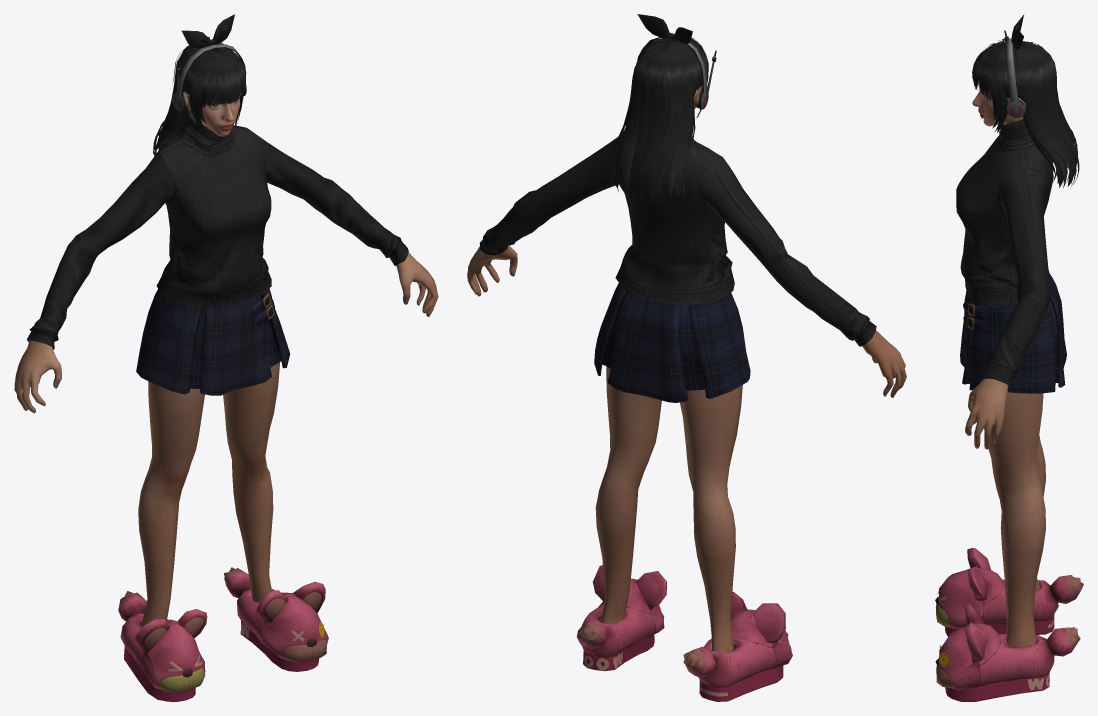
Rendered from alicia.glb.
3 renders of one model, left to right at view 1: azimuth 30°, elevation 25°; view 2: azimuth 150°, elevation 25°; view 3: azimuth 270°, elevation 25°, orthographic. The views are drawn at different scales.
Parts seen in each view (by area): view 1: alicia; view 2: alicia; view 3: alicia.
Part boxes in pixels (x1=…): alicia: x1=14, y1=14, x2=438, y2=701; alicia: x1=467, y1=14, x2=906, y2=701; alicia: x1=935, y1=14, x2=1083, y2=701.
Bounding box in the file's own units: 0.6401 × 0.9344 × 0.1972.
Materials: 9 (9 with a texture image).
